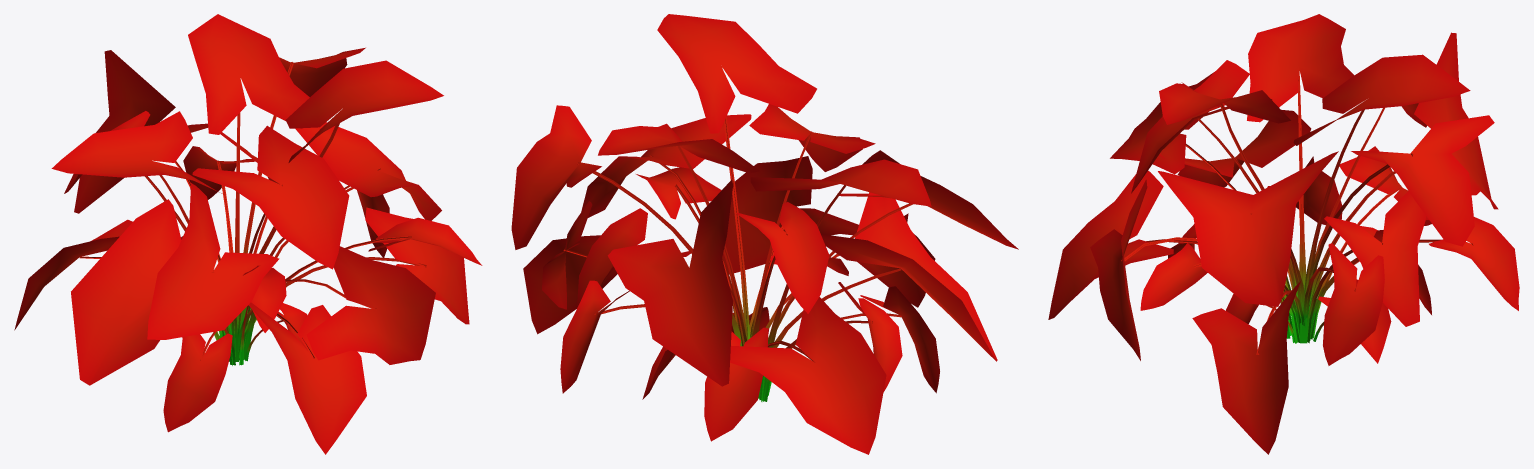
File: Arrowhead Plant_LOD1_Var2_sjsmD.fbx
3 views of the same model, side by side, from view 1: azimuth 30°, elevation 25°; view 2: azimuth 150°, elevation 25°; view 3: azimuth 270°, elevation 25° (orthographic). The views are drawn at different scales.
Parts seen in each view (by area): view 1: _c49a_Var2_LOD1; view 2: _c49a_Var2_LOD1; view 3: _c49a_Var2_LOD1.
Boxes of the visible parts, x1=… form: _c49a_Var2_LOD1: x1=14, y1=14, x2=482, y2=454; _c49a_Var2_LOD1: x1=511, y1=14, x2=1018, y2=454; _c49a_Var2_LOD1: x1=1048, y1=14, x2=1519, y2=454.
Size of the model in its own units: 67.15 by 46.3 by 64.
